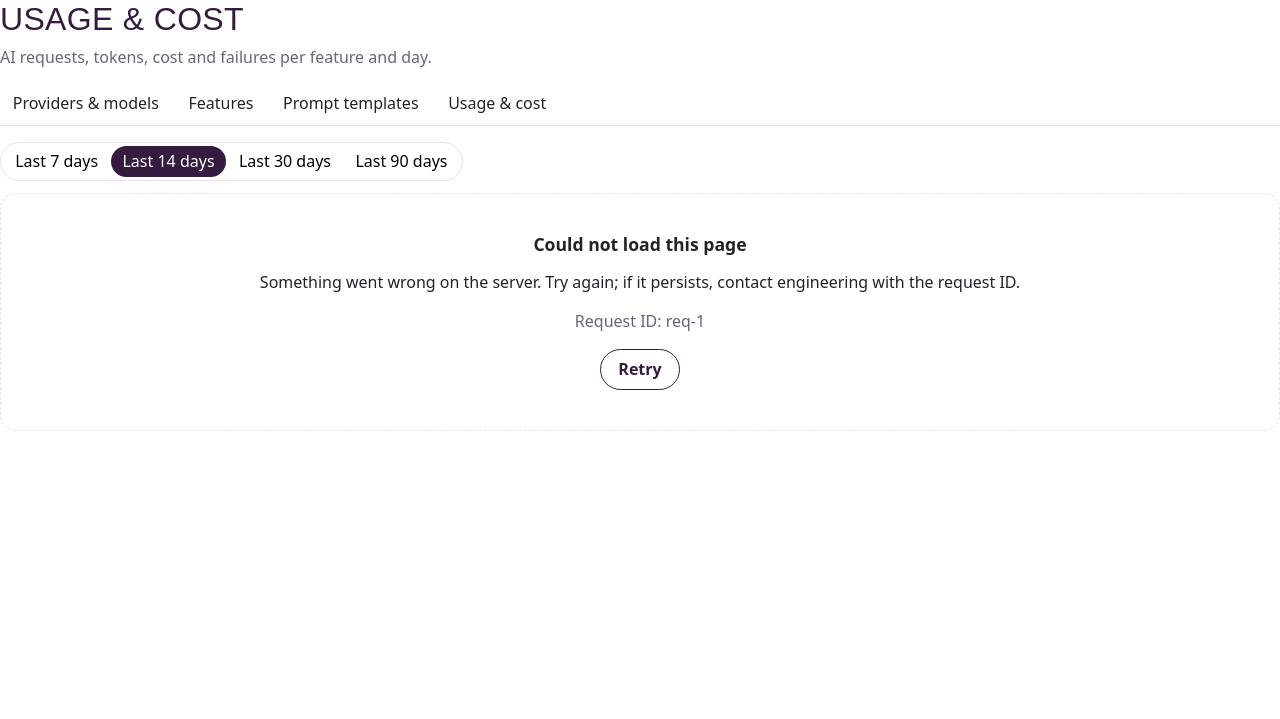
Scenario: UsagePage › shows an error with retry
Expected: the heading "Could not load this page" is shown, [533,232,747,256]
Click the button "Retry" at (640, 370), box [600,349,680,390]
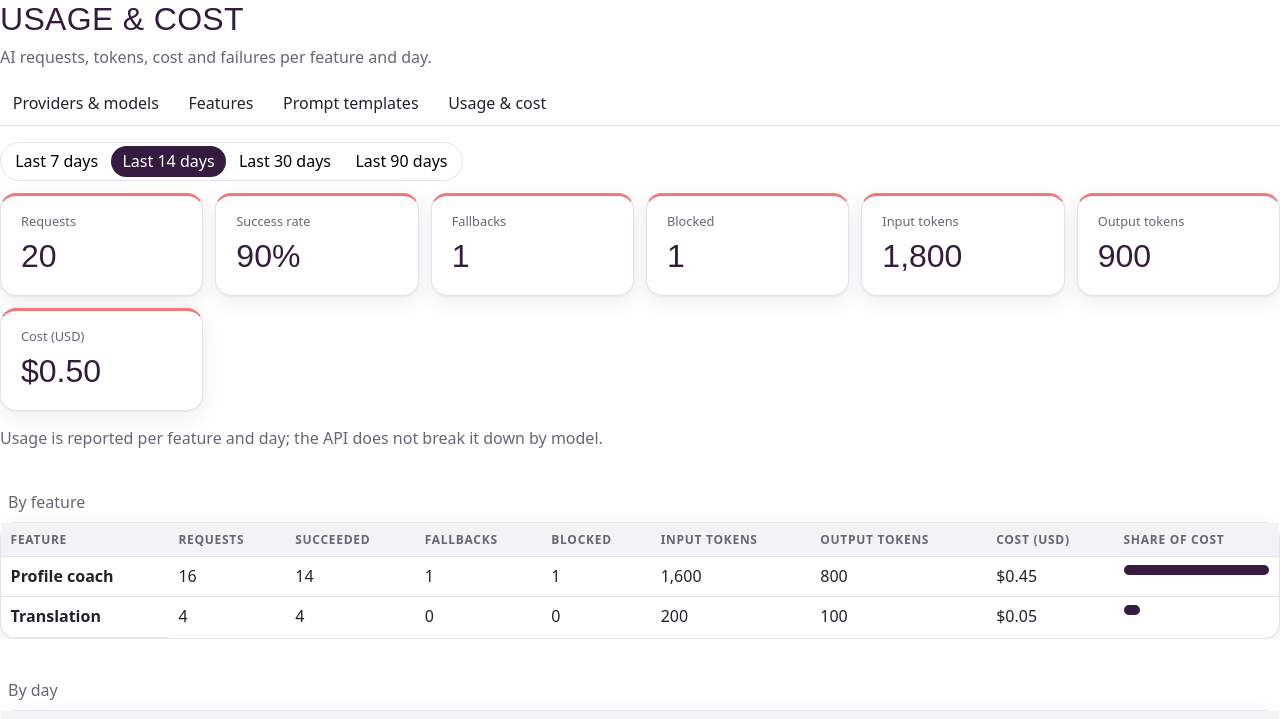
Now the table "By feature" is shown, box [0,483,1279,638]
